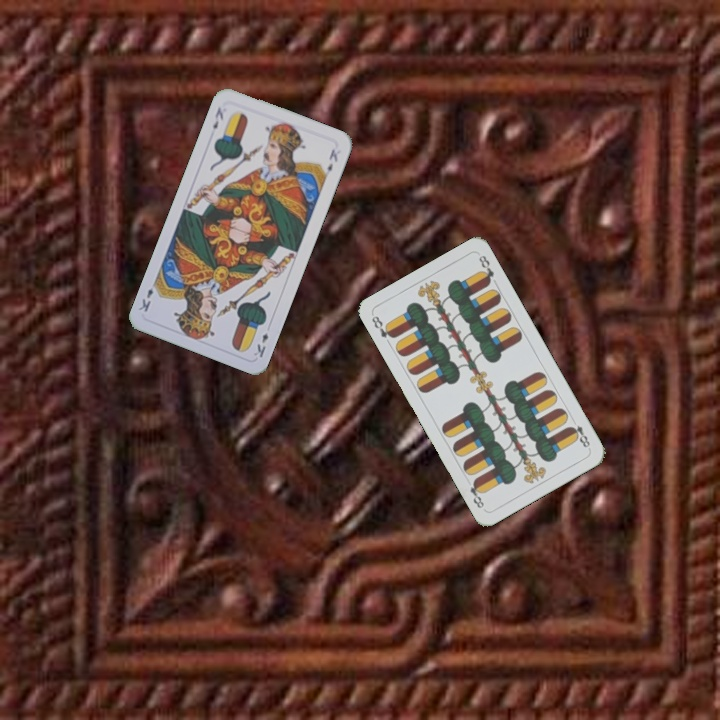E8: (565, 414, 593, 452), (368, 311, 397, 341)
EK: (250, 328, 271, 360), (209, 103, 226, 132)
